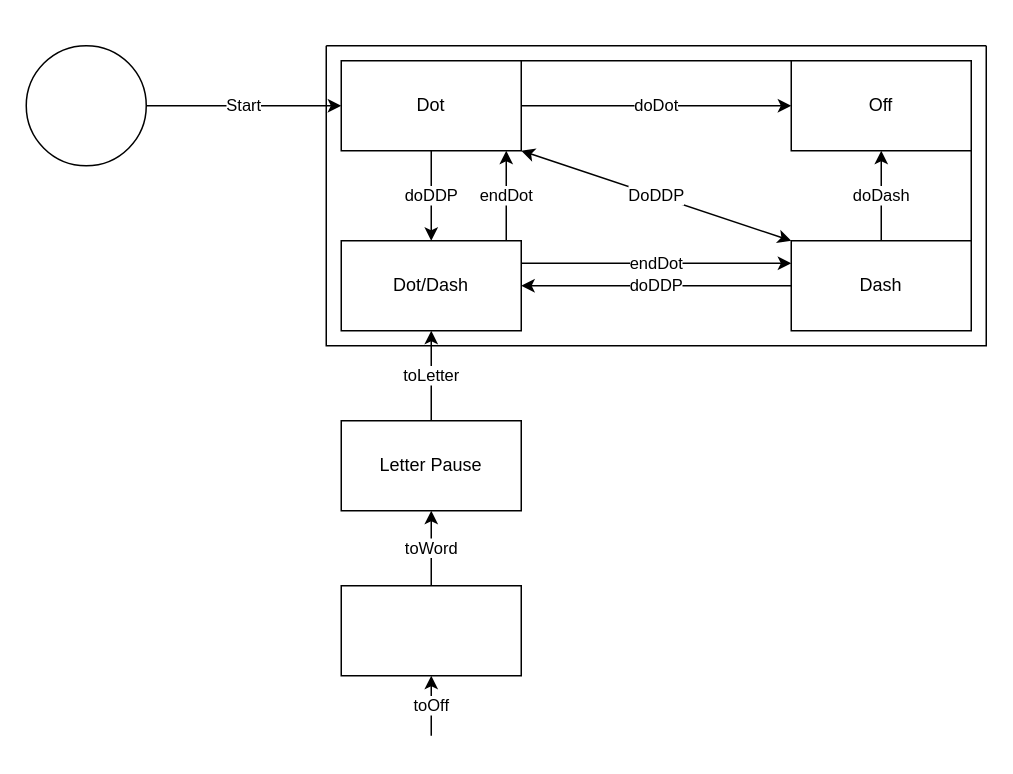
The diagram is 1013 pixels wide and 774 high, and some of its shapes have lost their labels. Here are the shapes that lost their labels. From the top down, the box of each, then its label:
(25, 44, 146, 166): Init
(325, 44, 986, 346): LOOP
(340, 584, 521, 676): Word Pause
